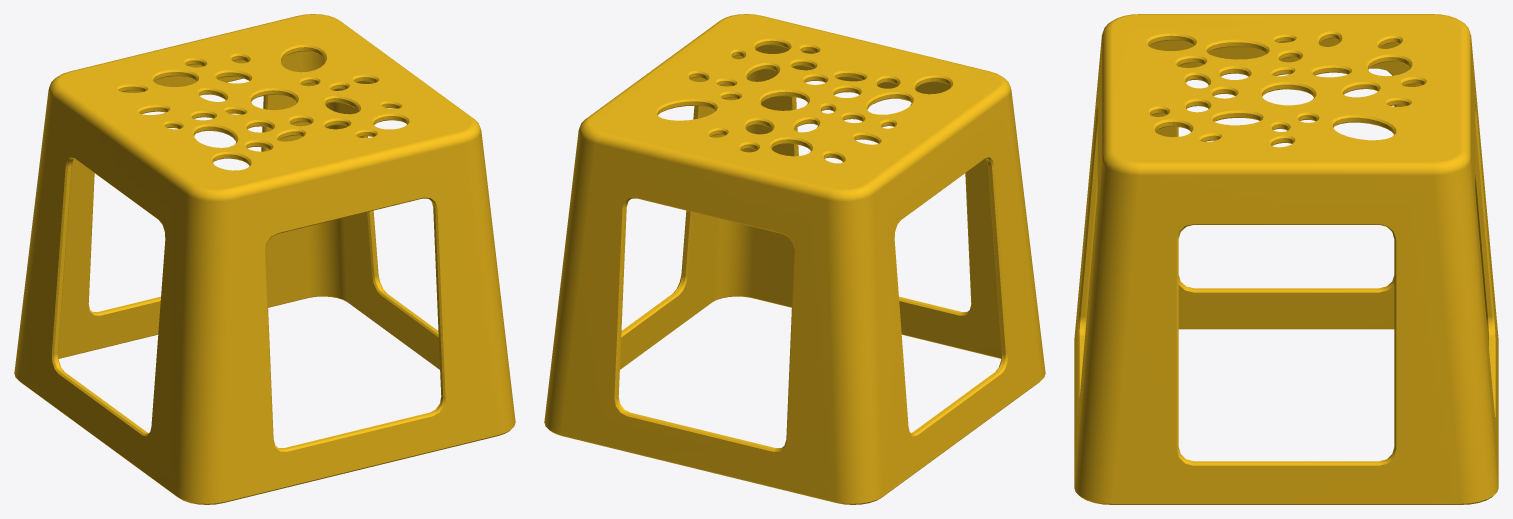
The model's file is ghe_nhua_vang.glb.
3 views of the same model, side by side, from view 1: azimuth 30°, elevation 25°; view 2: azimuth 150°, elevation 25°; view 3: azimuth 270°, elevation 25° (orthographic). The views are drawn at different scales.
Parts seen in each view (by area): view 1: ghe_nhua_vang; view 2: ghe_nhua_vang; view 3: ghe_nhua_vang.
Part boxes in pixels (bbox=[...]): ghe_nhua_vang: bbox=[14, 14, 515, 504]; ghe_nhua_vang: bbox=[544, 14, 1045, 504]; ghe_nhua_vang: bbox=[1074, 14, 1498, 504].
Size of the model in its own units: 0.3348 by 0.2856 by 0.3348.
